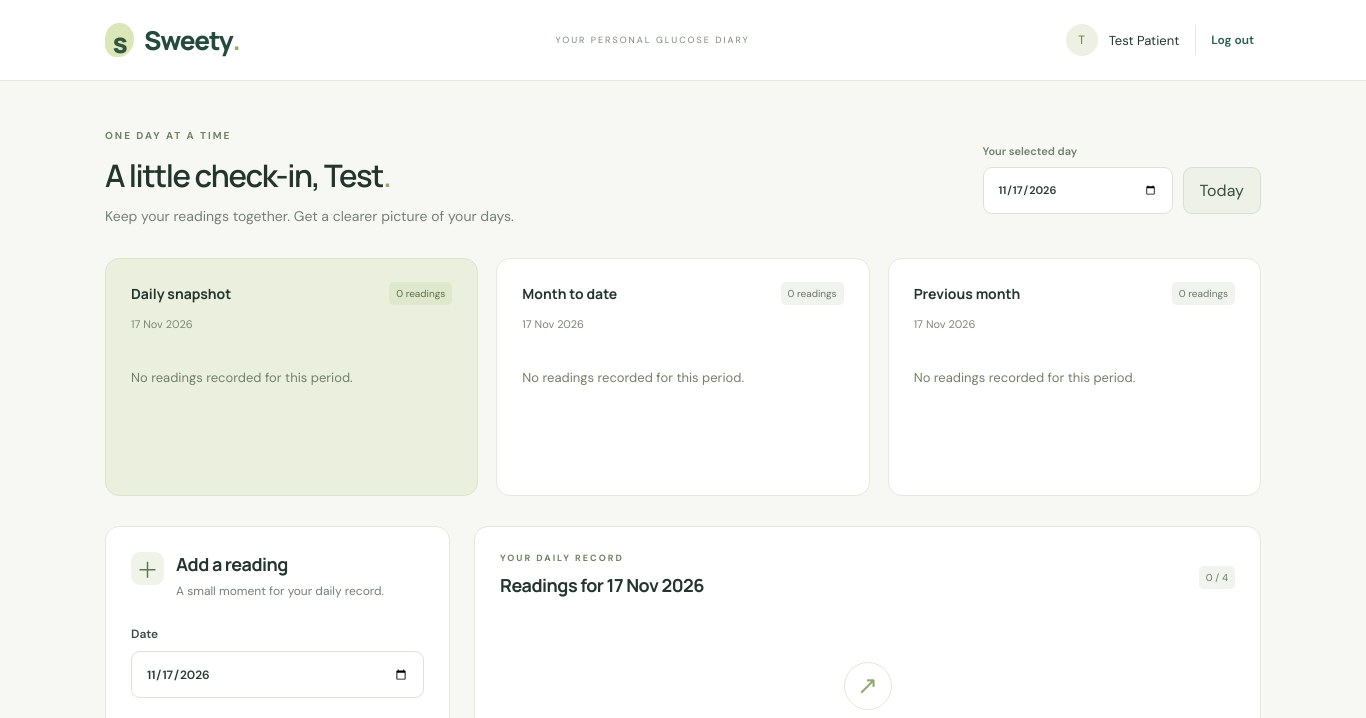
Today aligns both date contexts
Expected: the heading "A little check-in, Test." is shown, 105,154 -> 390,196
Type "2026-11-15" into the date field named "Selected report date" at (1078, 190), box 983,167 -> 1173,214
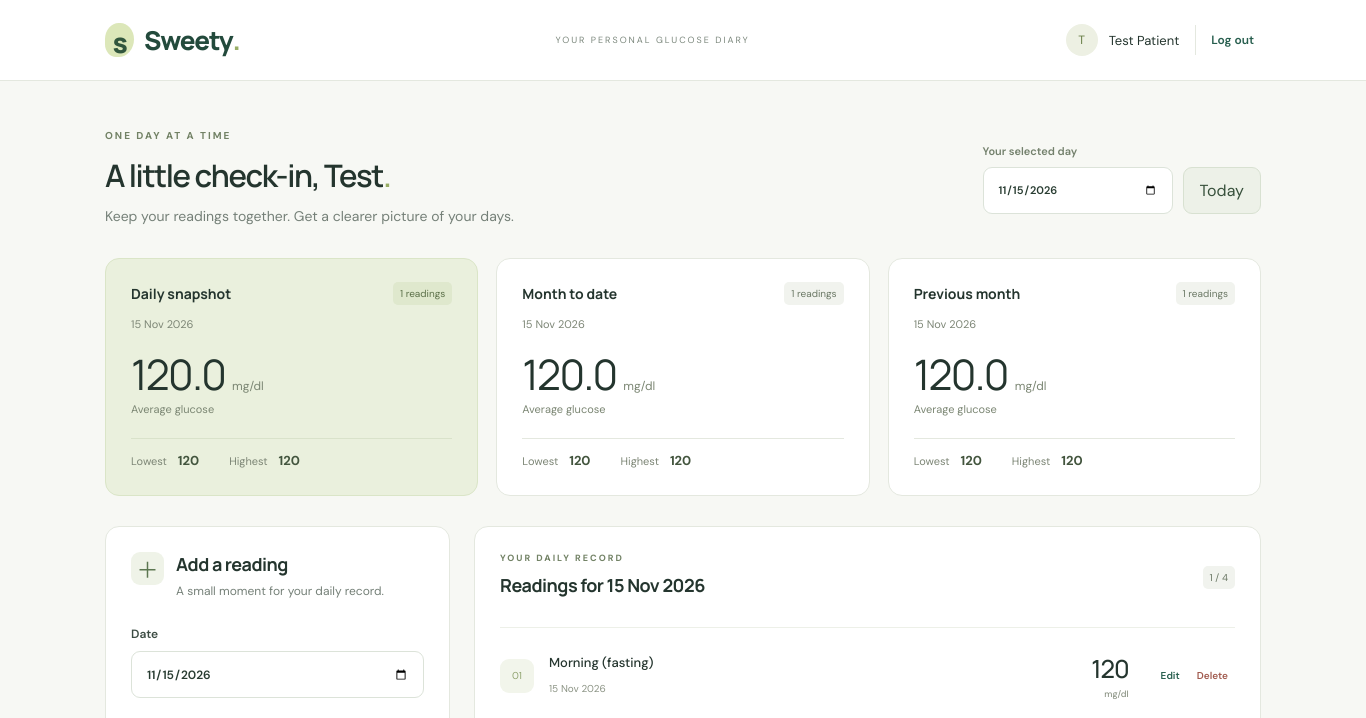
Click the button "Today" at (1222, 190), box 1183,167 -> 1261,214
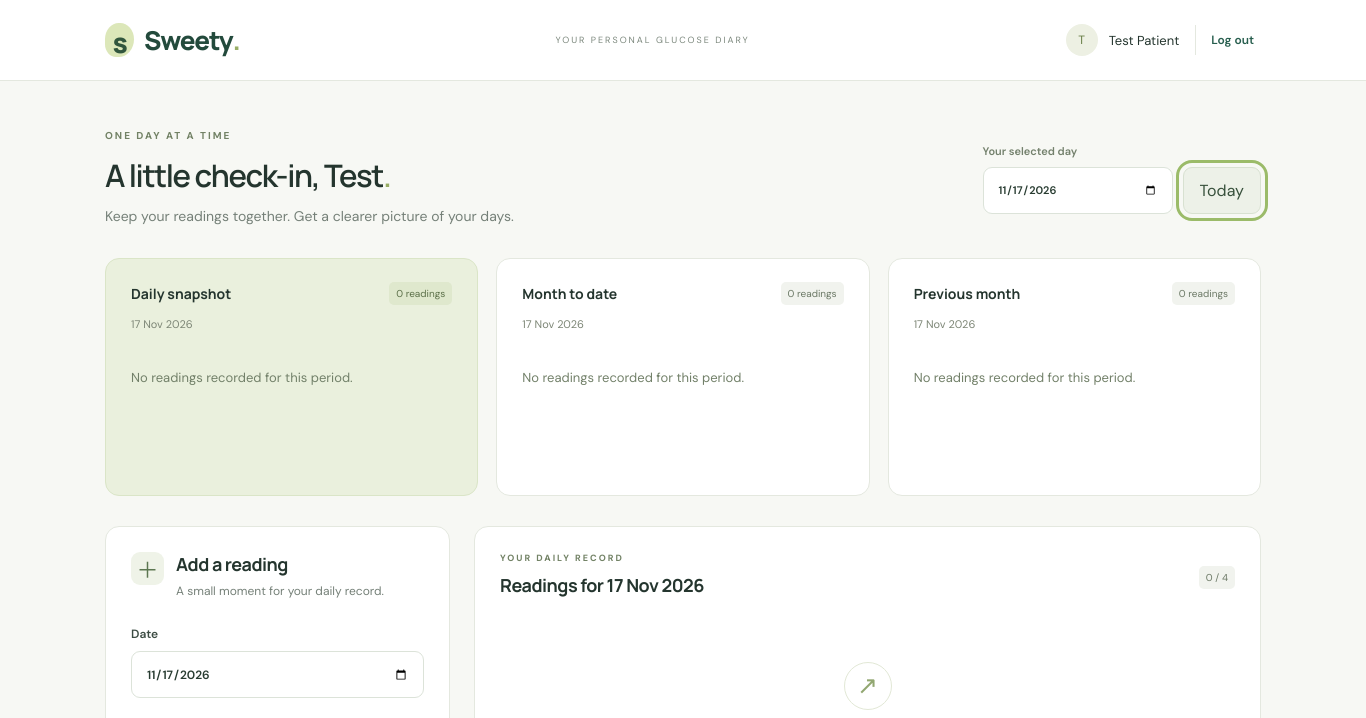
Expected: the date field named "Selected report date" holds "2026-11-17", 983,167 -> 1173,214
Expected: the date field labelled "Date" holds "2026-11-17", 131,651 -> 424,698
